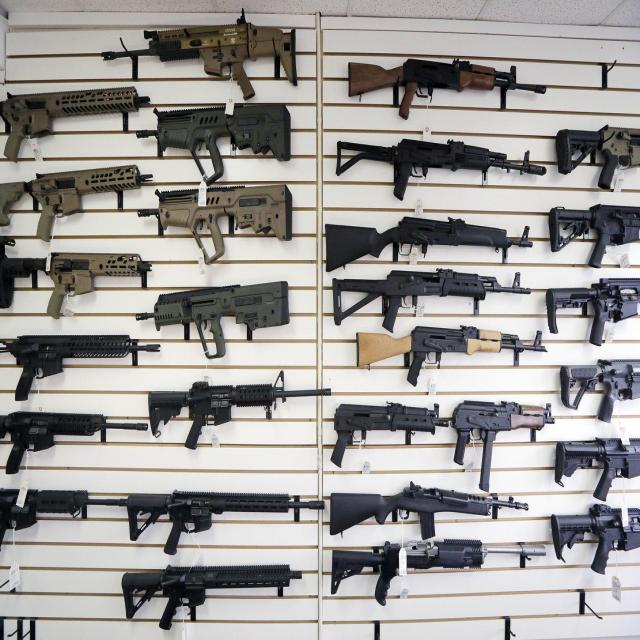weapon: (327, 534, 554, 616), (347, 44, 549, 130), (138, 372, 338, 457), (336, 132, 547, 206), (125, 488, 326, 564), (336, 270, 538, 344), (100, 20, 302, 92), (0, 326, 171, 409), (348, 328, 554, 393), (324, 214, 539, 276), (150, 280, 297, 370), (118, 564, 309, 632), (0, 168, 160, 249), (134, 104, 298, 181), (330, 481, 530, 544), (2, 88, 147, 165), (145, 187, 301, 256), (0, 414, 149, 484), (452, 402, 560, 491), (332, 398, 452, 469)
